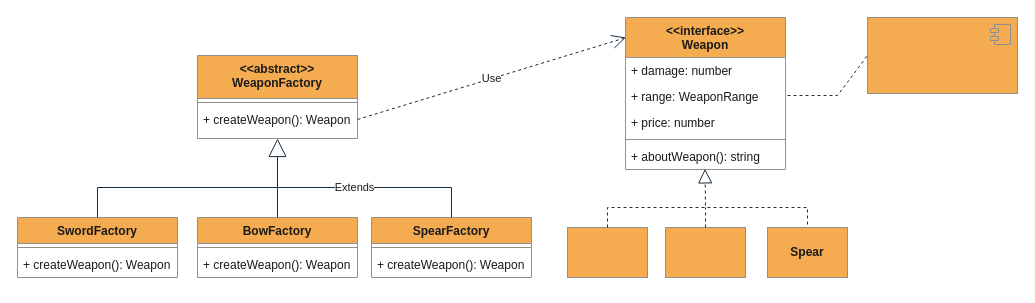
Some shapes in this 1035 by 303 pixel diagram are drawn without their labels. The box of each missing label's shape, as (x1, y1, x2, y2) in pixels:
Bow: (664, 226, 746, 278)
Sword: (566, 226, 648, 278)
«Annotation» WeaponRange is enum: (866, 16, 1018, 94)
